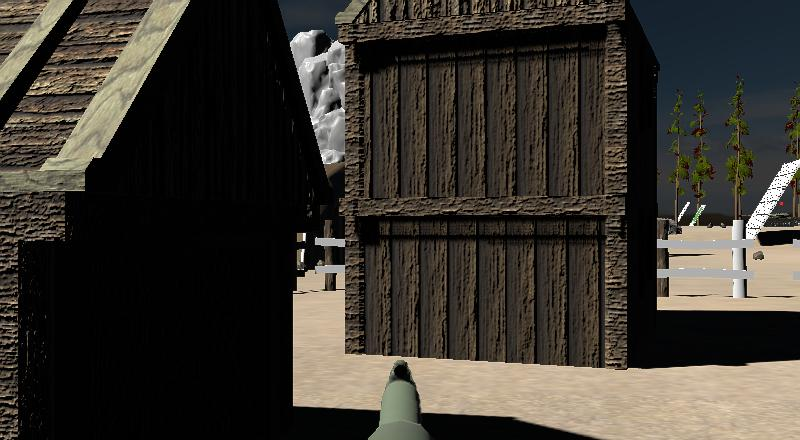House: (0, 0, 320, 440), (335, 2, 665, 371)
car: (756, 214, 800, 246)
